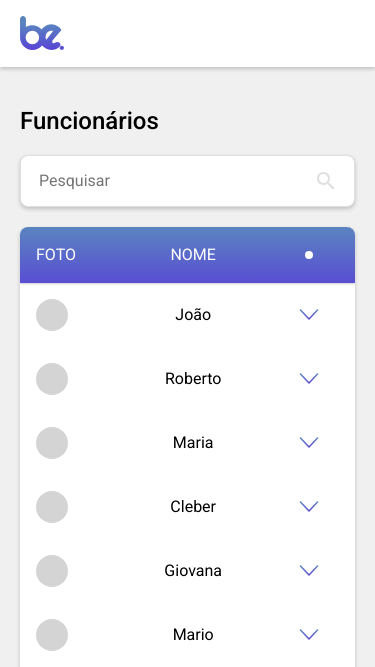
Test: HOME › should correctly search employee by its phone on mobile
The width and height of the screenshot is (375, 667).
Type "+55 (50) 32165-4789" into the field with id "search-input" at coordinates (176, 181), box [37,168,314,194]
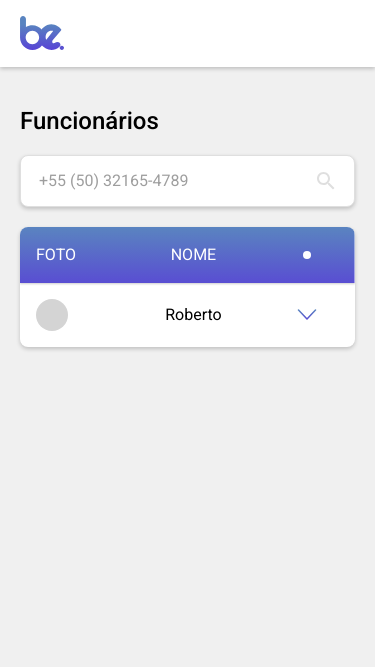
Expected: the text "Roberto" is shown, [127,283,259,347]
Result: the number of rows is 2 at [20,227,355,283]; [20,283,355,347]
